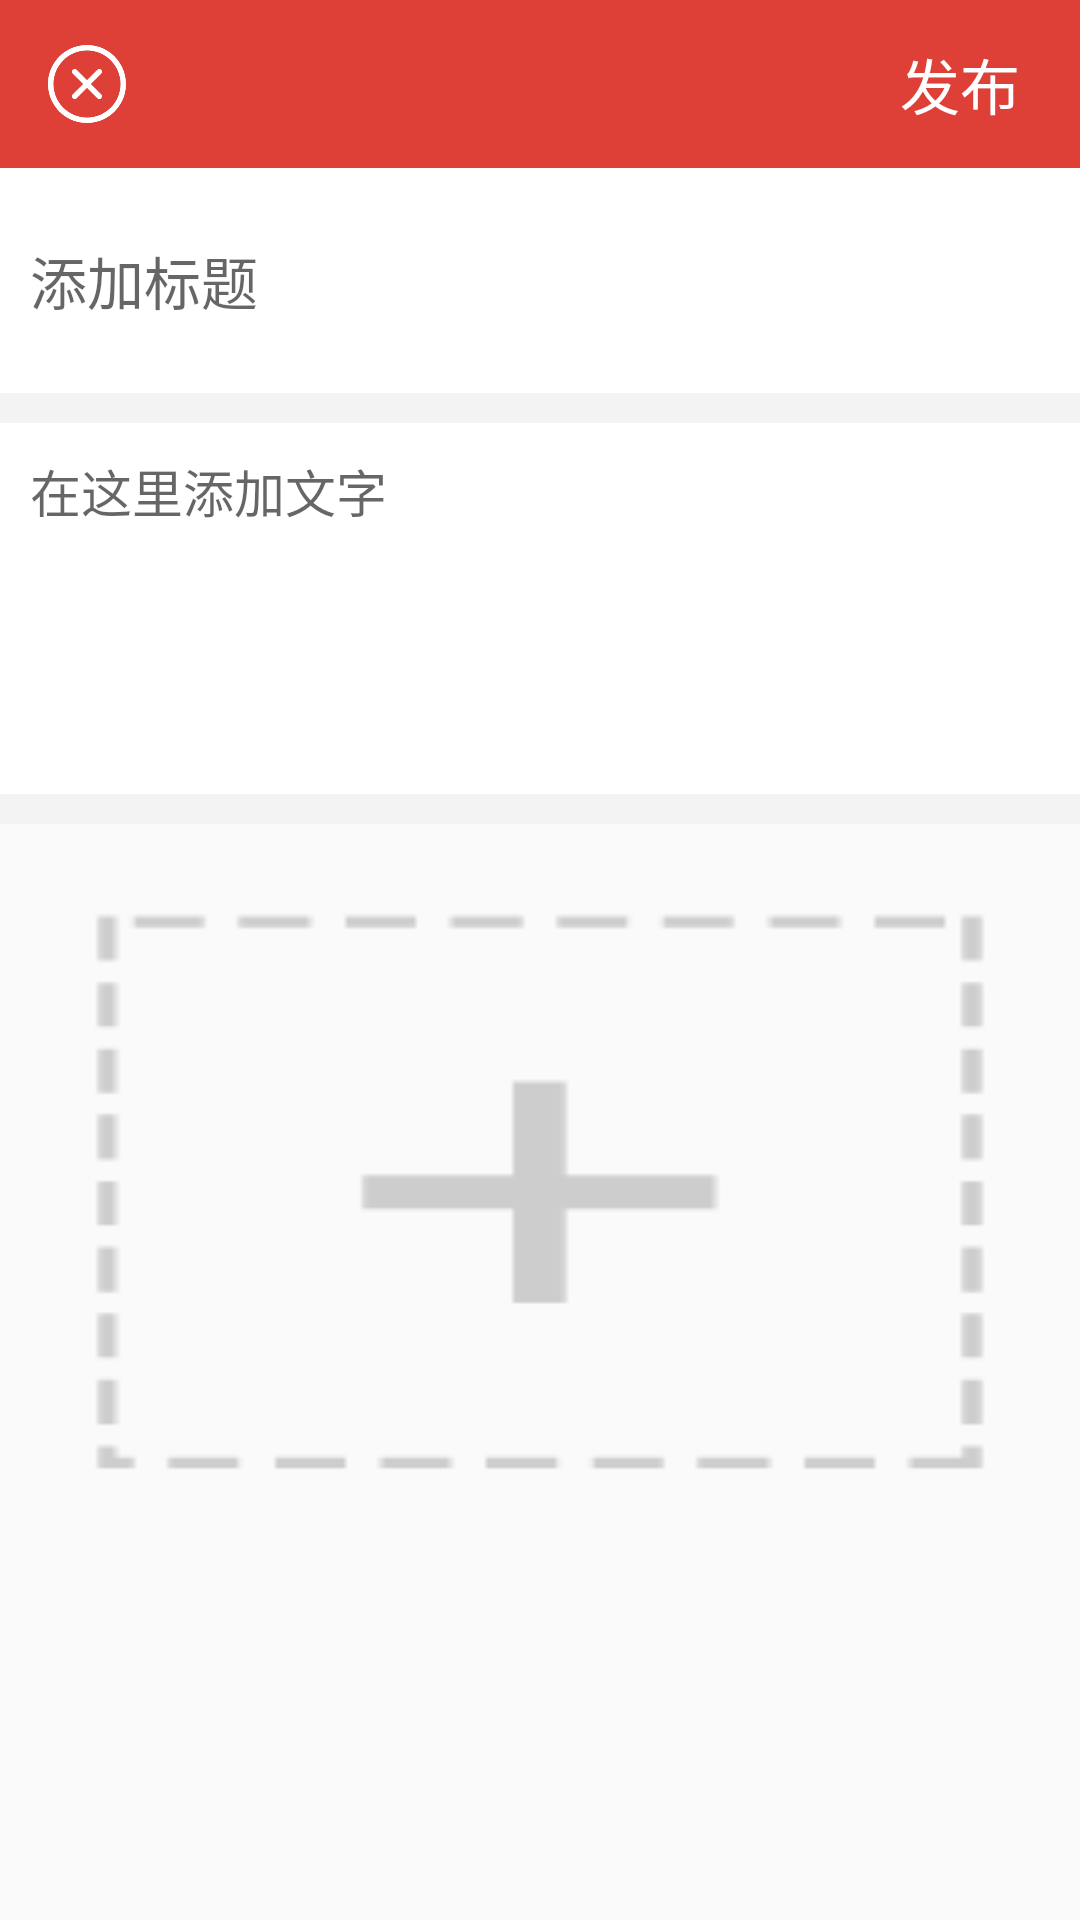

Where to tap for icons on this 1080 × 1920 app screen, as [x,y]:
cancel: [87,84]
